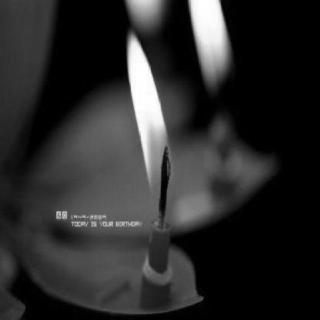Fire: (124, 34, 172, 183)
